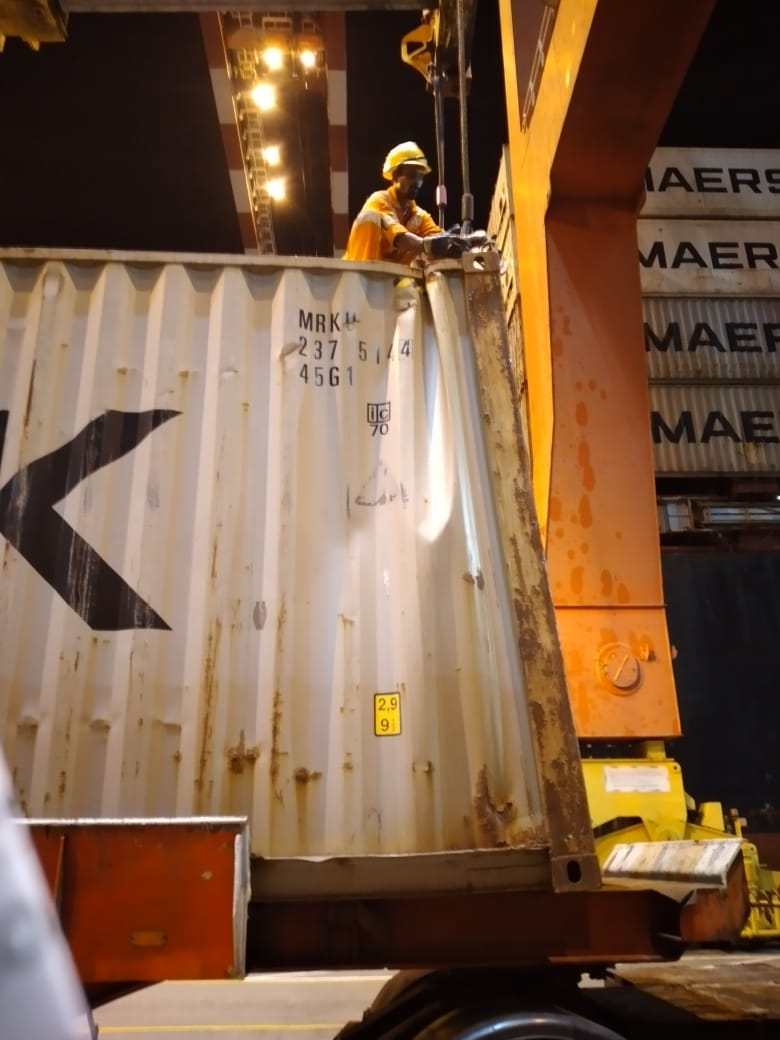right_side: (6, 255, 501, 855)
